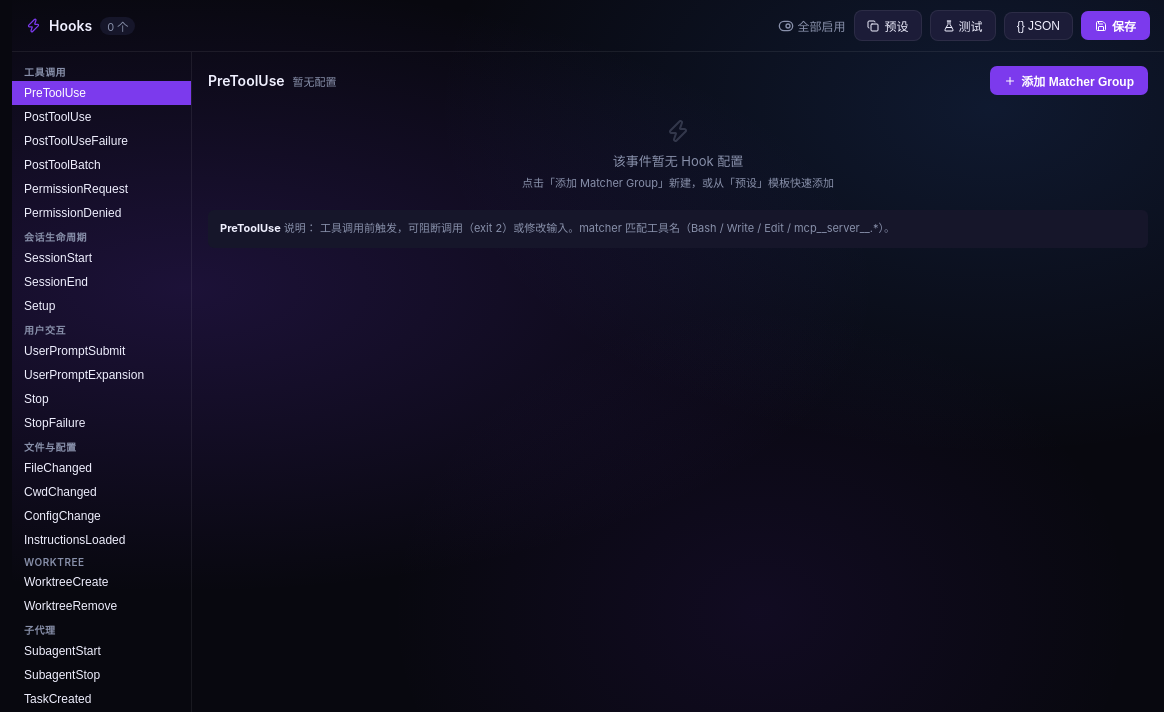
it: HooksPanel - 交互 › 点击"添加 Matcher Group"应追加一个 group
Expected: the text "Hooks" is shown, [49,17,92,34]
Click the button "添加 Matcher Group".
click(1069, 80)  # box [990,66,1148,95]
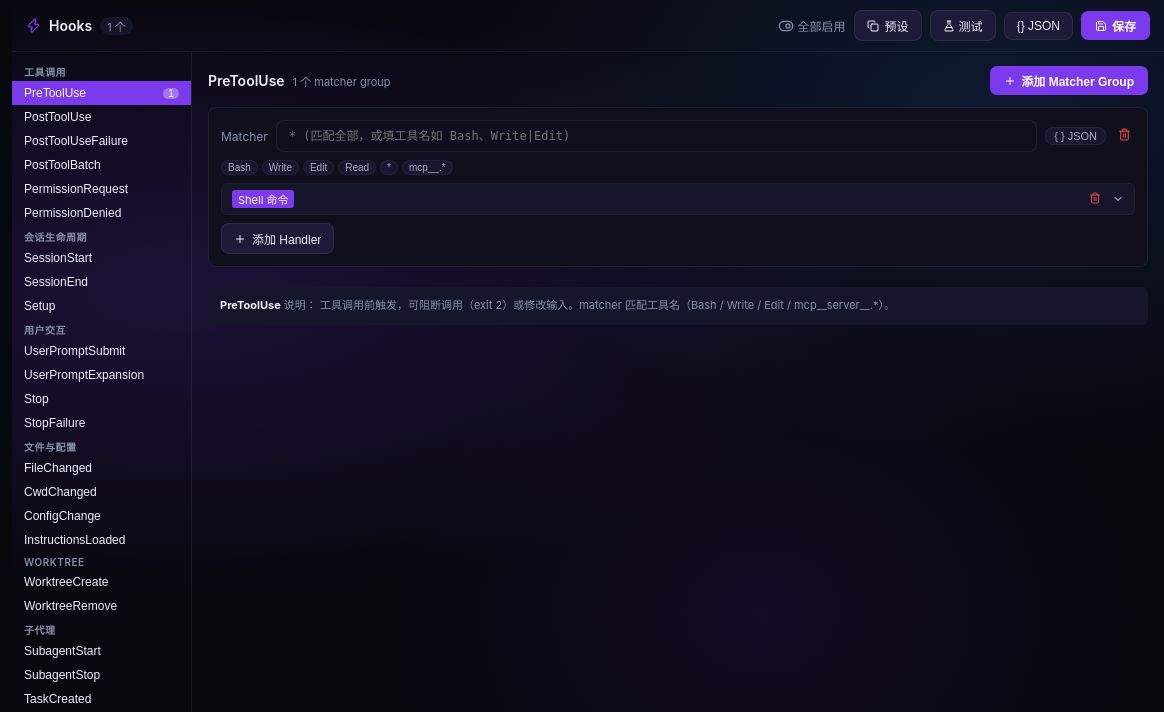
Now the text "1 个 matcher group" is shown, box [293,72,391,88]
